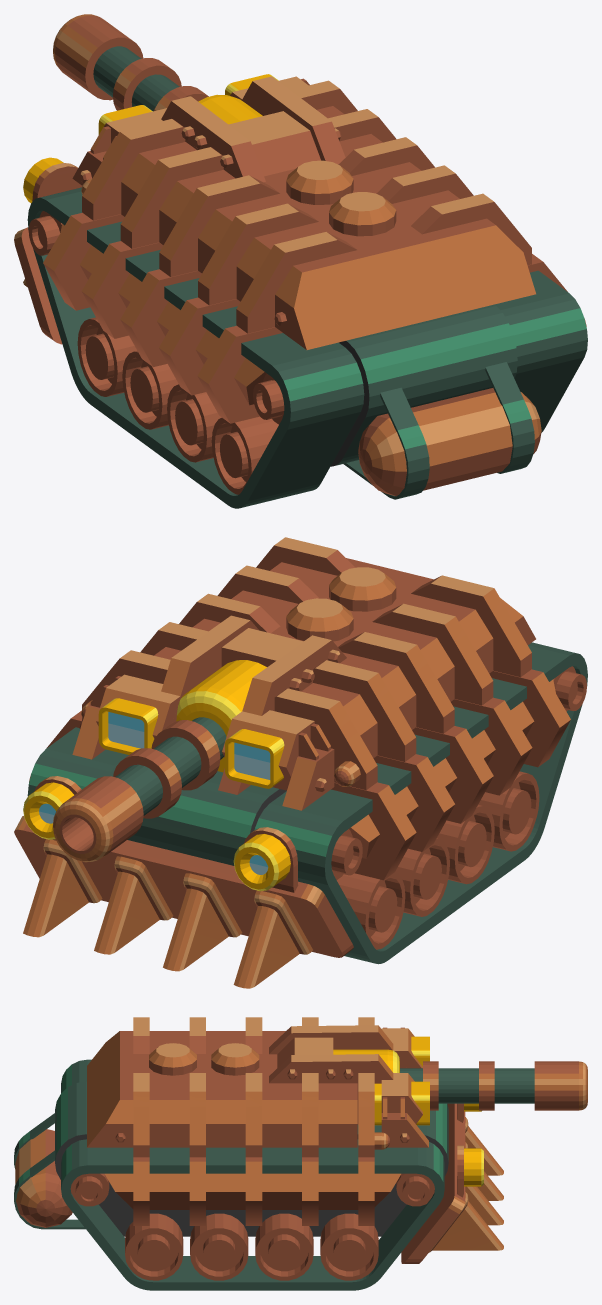
Rendered from tank.obj.
3 views of the same model, one above another, from view 1: azimuth 30°, elevation 25°; view 2: azimuth 150°, elevation 25°; view 3: azimuth 270°, elevation 25° (orthographic). The views are drawn at different scales.
Visible parts, largest first — view 1: body, head; view 2: body, head; view 3: body, head.
Boxes of the visible parts, left/top/right/bottom form: body: left=14, top=157, right=587, bottom=508; head: left=53, top=14, right=535, bottom=349; body: left=14, top=642, right=587, bottom=988; head: left=53, top=537, right=535, bottom=862; body: left=14, top=1059, right=503, bottom=1290; head: left=87, top=1017, right=587, bottom=1157.
Bounding box in the file's own units: 1.16 × 0.8186 × 2.19.
